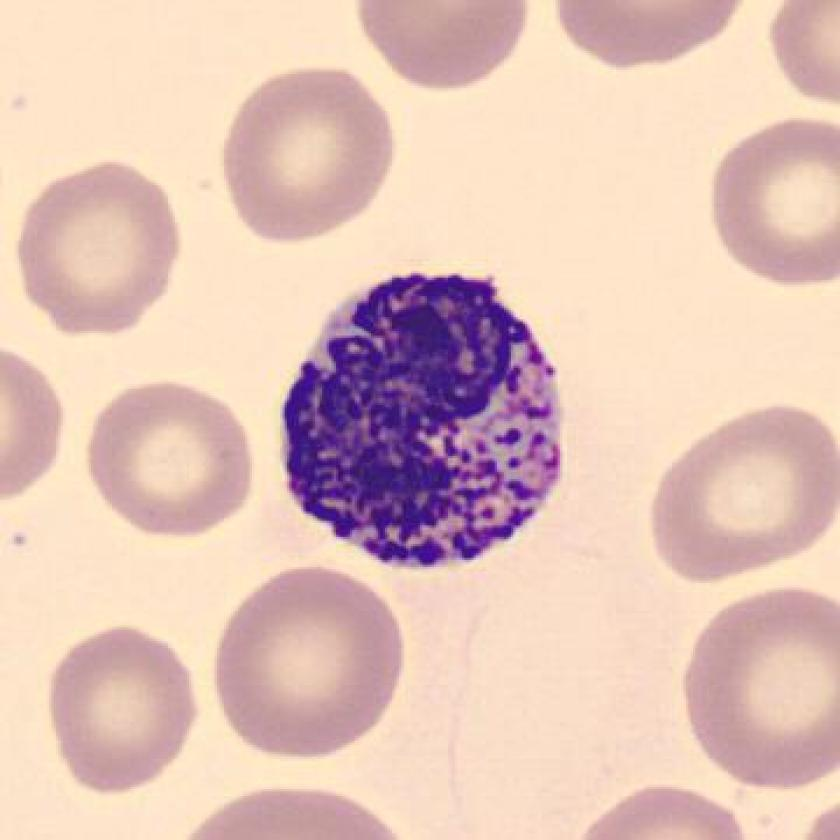basophil: (276, 270, 587, 578)
